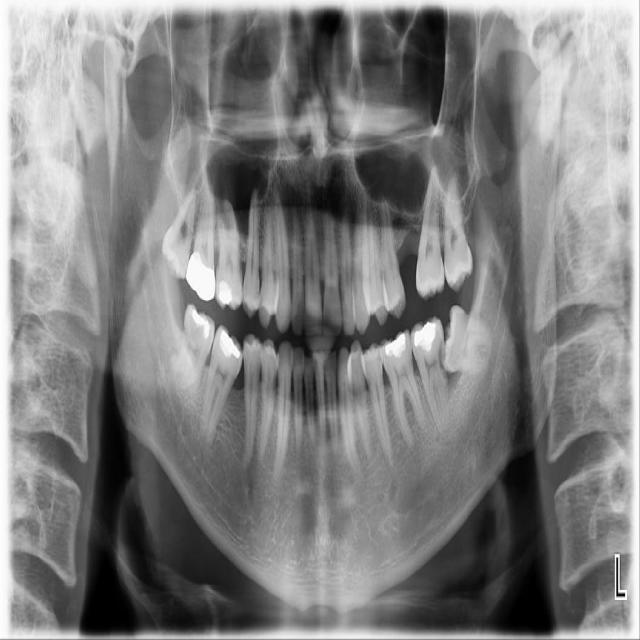Caries: (439, 341, 447, 381)
Crown: (185, 247, 215, 301)
Filling: (218, 328, 245, 362), (412, 321, 437, 349), (383, 333, 408, 359), (191, 310, 212, 338), (216, 279, 234, 304)
Missing teeth: (394, 229, 422, 298)
impacted tooth: (442, 304, 497, 379), (156, 188, 198, 278)
